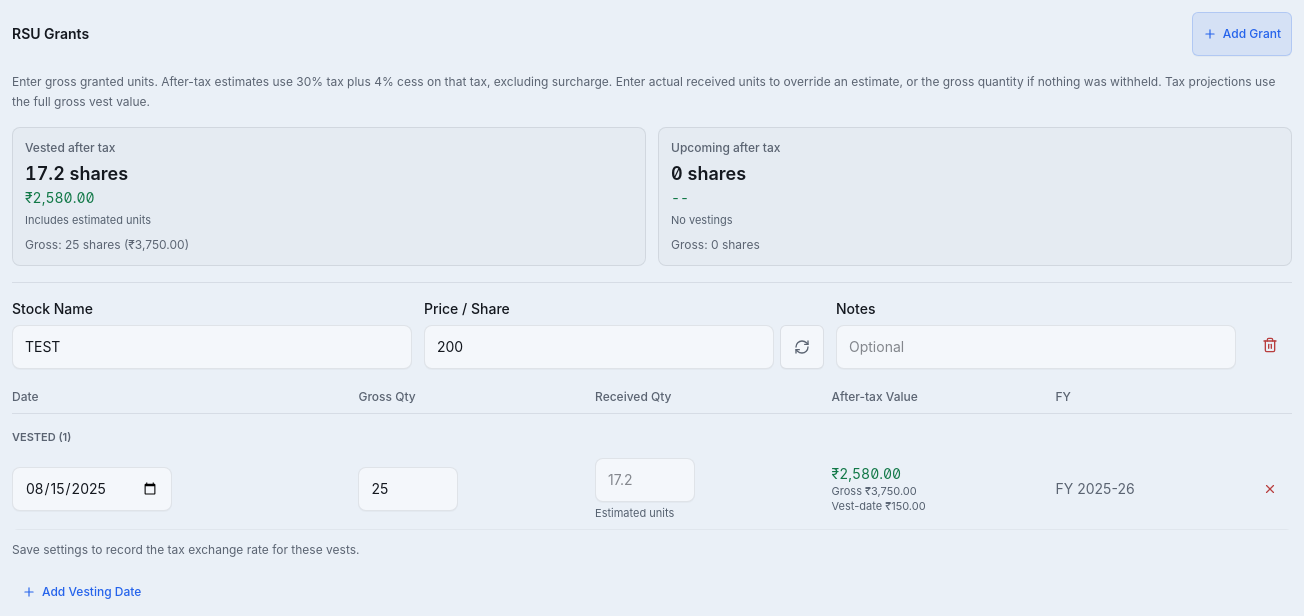
Scenario: RSU received-unit settings › updates estimates with gross units but preserves previously entered actual units
Step 1. Replace the text in the number field named "Gross granted quantity for TEST vesting 1" with "50" → (408, 489), box [358,467,458,511]
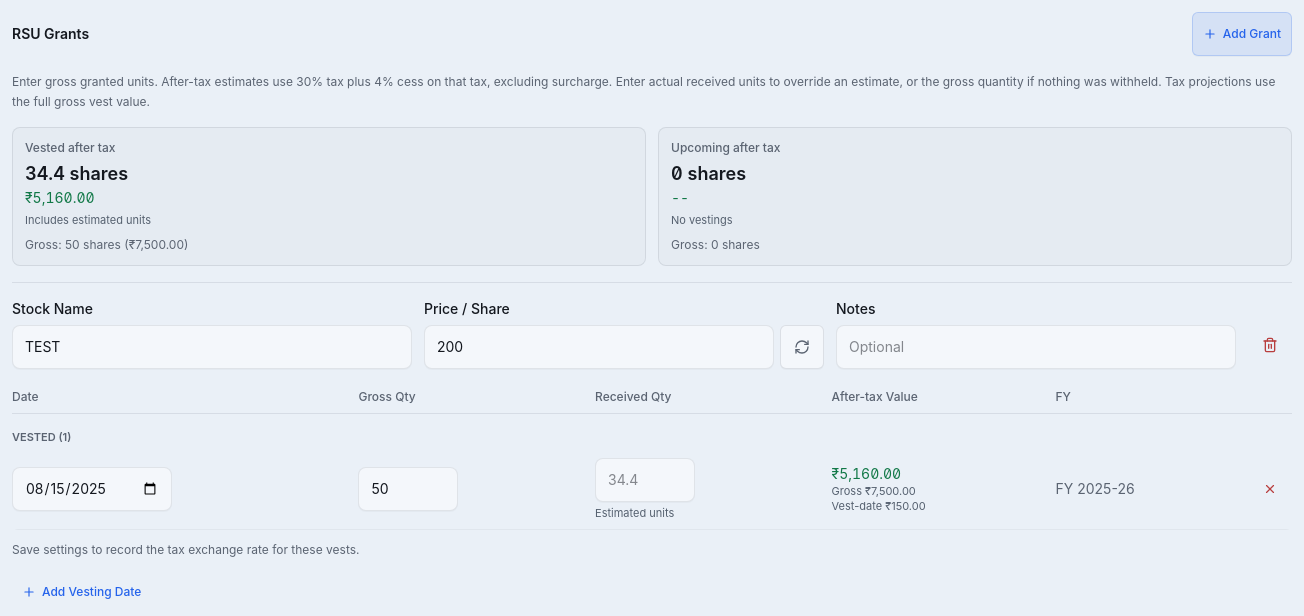
Result: the text "₹5,160.00" next to "FY 2025-26" is shown at [832,465,901,482]
Step 2. Type "20" into the number field named "Actual shares received after tax for TEST vesting 1" → (645, 480), box [595,458,695,502]
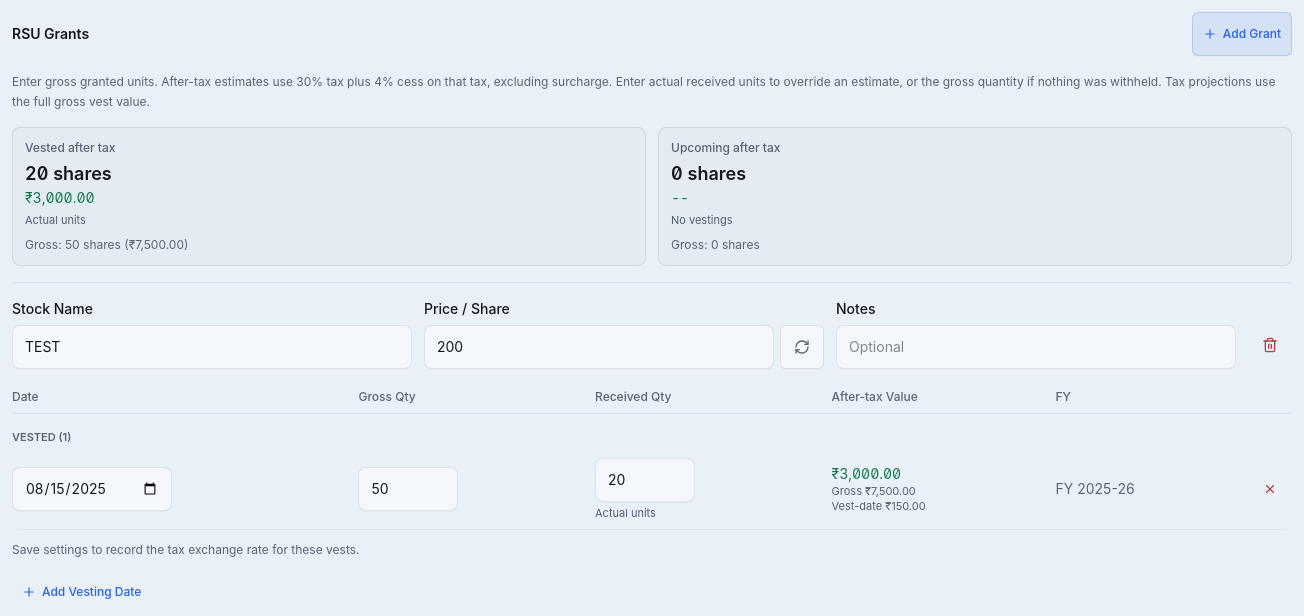
Step 3. Replace the text in the number field named "Gross granted quantity for TEST vesting 1" with "75" → (408, 489), box [358,467,458,511]
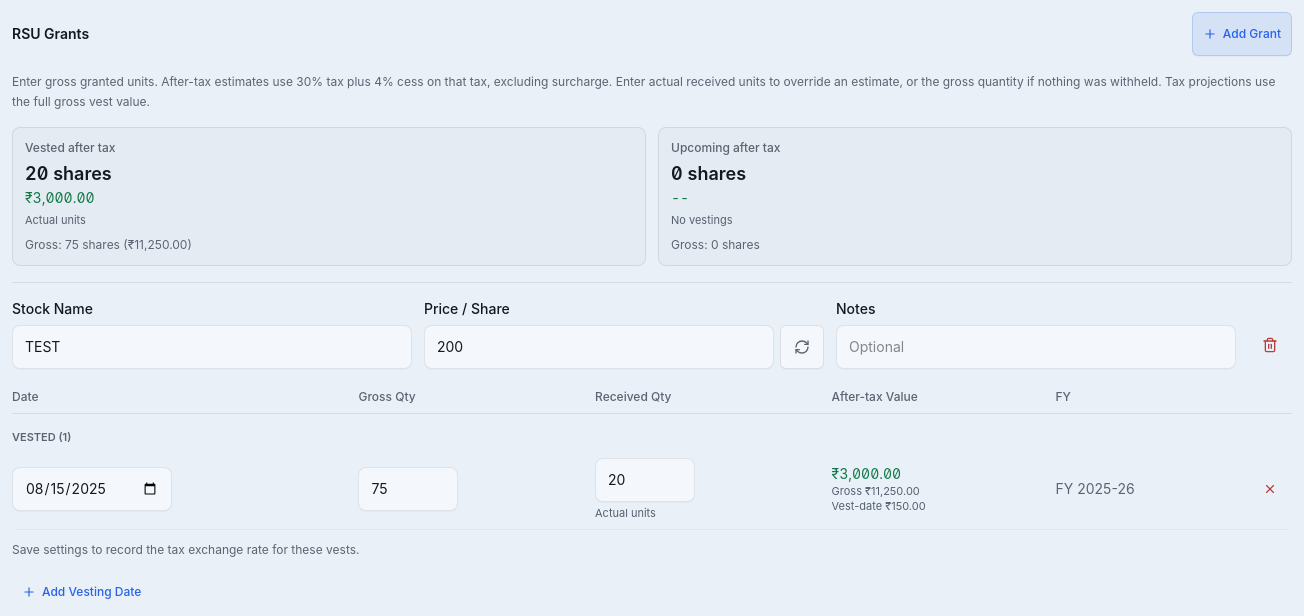
Result: the text "₹3,000.00" next to "FY 2025-26" is shown at [832,465,901,482]
Result: the text "Gross ₹11,250.00" is shown at [832,484,920,498]
